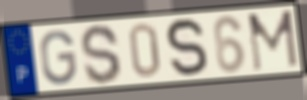0: (127, 21, 163, 81)
6: (211, 13, 249, 75)
G: (38, 29, 78, 87)
M: (246, 8, 301, 73)
S: (164, 16, 210, 80), (79, 22, 123, 86)
